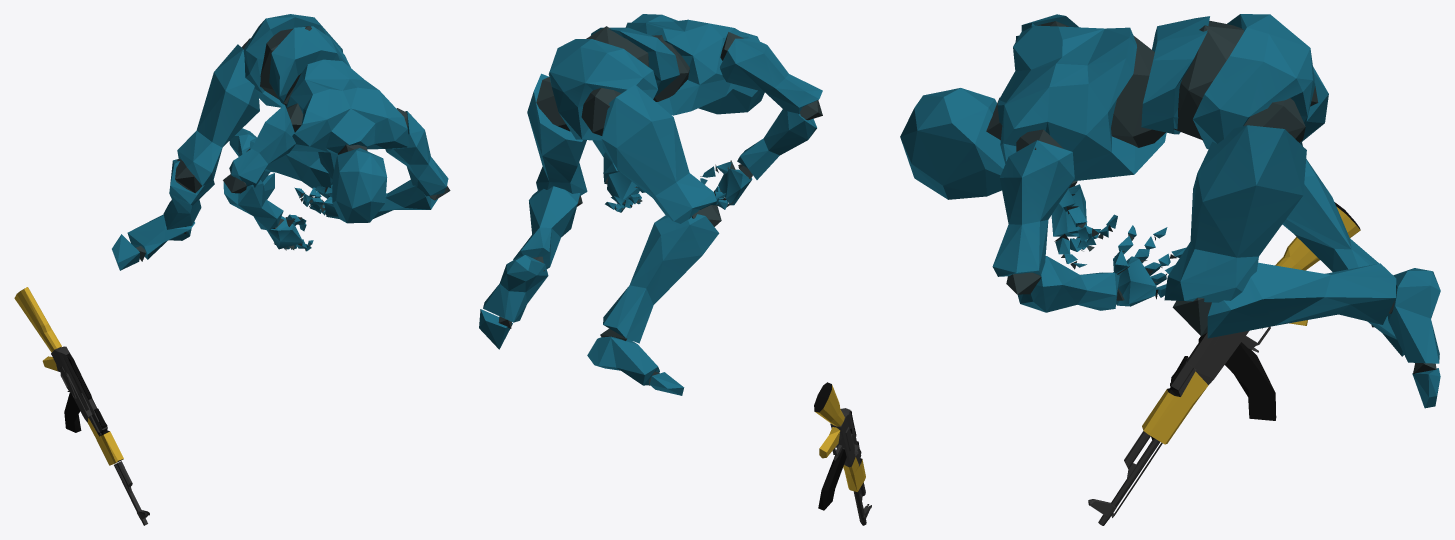
The model's file is EnemyDying_000067.obj.
3 renders of one model, left to right at view 1: azimuth 30°, elevation 25°; view 2: azimuth 150°, elevation 25°; view 3: azimuth 270°, elevation 25°, orthographic. The views are drawn at different scales.
Visible parts, largest first — view 1: Alpha_Surface, AK-47_Cube, Alpha_Joints; view 2: Alpha_Surface, Alpha_Joints, AK-47_Cube; view 3: Alpha_Surface, Alpha_Joints, AK-47_Cube.
Part boxes in pixels (<box>): Alpha_Surface: <box>112,14,448,270</box>; AK-47_Cube: <box>14,287,149,525</box>; Alpha_Joints: <box>136,26,450,261</box>; Alpha_Surface: <box>479,14,822,395</box>; Alpha_Joints: <box>498,26,822,385</box>; AK-47_Cube: <box>814,382,871,525</box>; Alpha_Surface: <box>900,14,1440,408</box>; Alpha_Joints: <box>986,20,1436,374</box>; AK-47_Cube: <box>1088,202,1360,525</box>.
Size of the model in its own units: 237 by 296 by 225.
